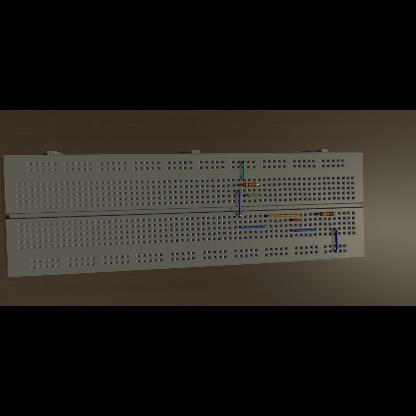breadboard: (3, 149, 365, 277)
resistor: (243, 183, 257, 187), (320, 212, 334, 216)
wire: (264, 214, 302, 218), (238, 190, 242, 218), (334, 230, 338, 252), (239, 225, 266, 228), (289, 230, 316, 233), (242, 161, 246, 181), (244, 194, 260, 196), (289, 219, 301, 221), (314, 214, 320, 216), (257, 184, 259, 186), (238, 186, 242, 186)
